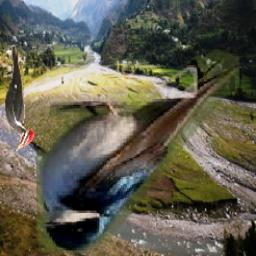Swallow: (35, 47, 238, 254)
Woodpecker: (5, 45, 36, 154)
